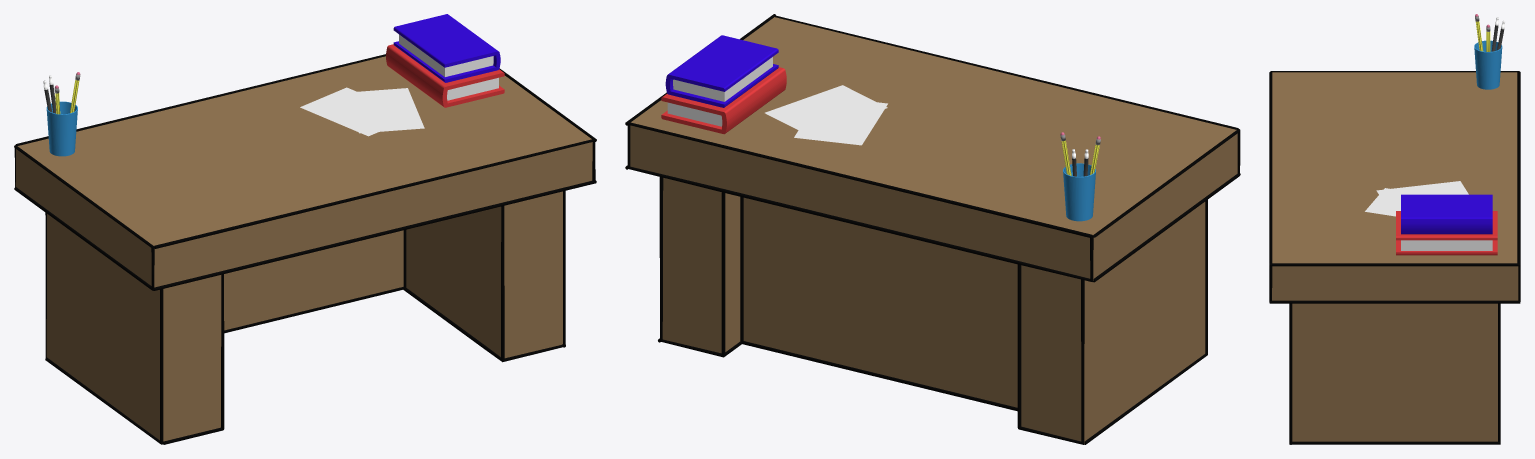
The model's file is 3rd-Level Doctor Table With Outline.fbx.
3 views of the same model, side by side, from view 1: azimuth 30°, elevation 25°; view 2: azimuth 150°, elevation 25°; view 3: azimuth 270°, elevation 25° (orthographic). The views are drawn at different scales.
Parts seen in each view (by area): view 1: Table; view 2: Table; view 3: Table.
Boxes of the visible parts, bbox=[...] form: Table: bbox=[14, 14, 596, 444]; Table: bbox=[625, 14, 1240, 444]; Table: bbox=[1269, 14, 1520, 444].
Bounding box in the file's own units: 443 × 273 × 242.
